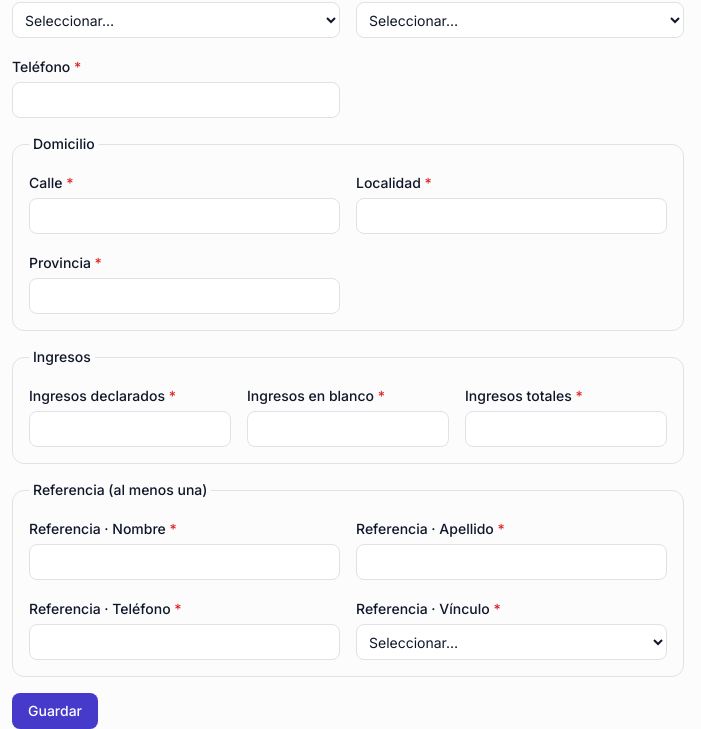
PersonaForm validacion › bloquea el submit si falta ingresos_totales y muestra error en español
(page scrolled)
Step 1. Click the button "Guardar" → [55, 711], box x1=12 y1=693 x2=98 y2=728
(page scrolled)
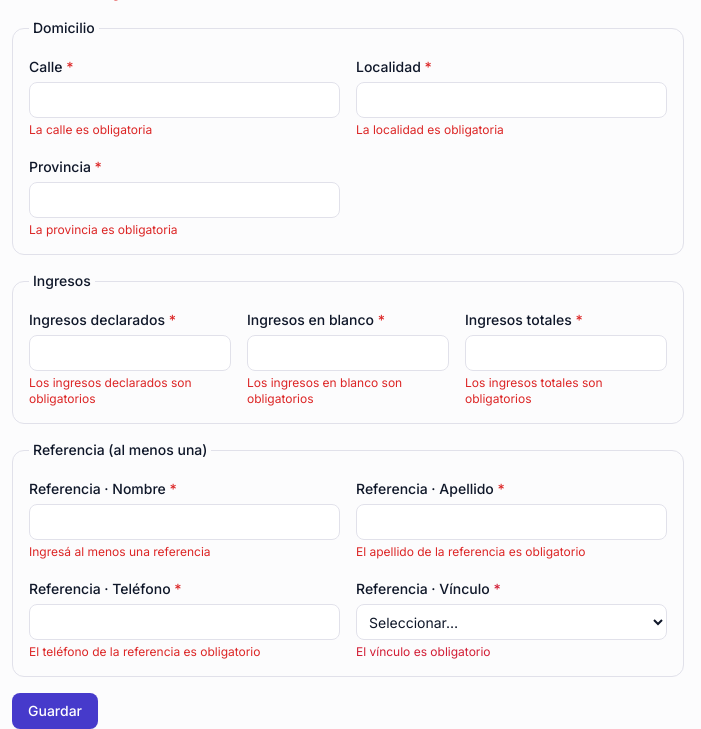
Result: the text "Los ingresos totales son obligatorios" is shown at x1=465 y1=375 x2=603 y2=406
